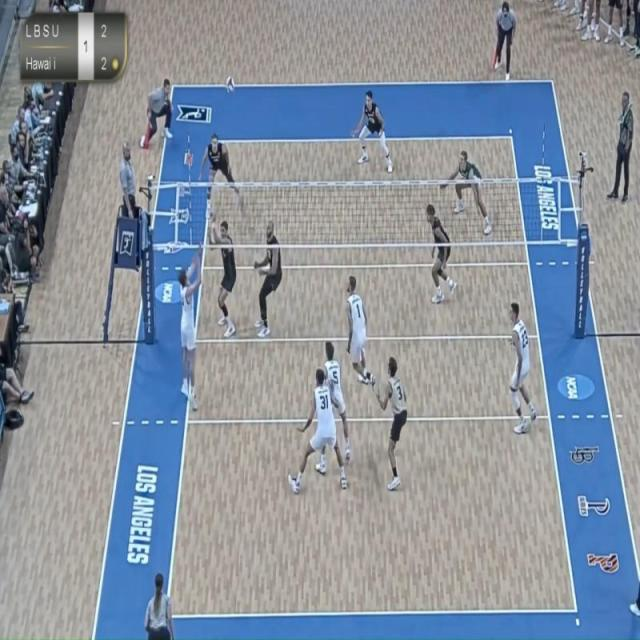volleyball: (223, 71, 236, 96)
